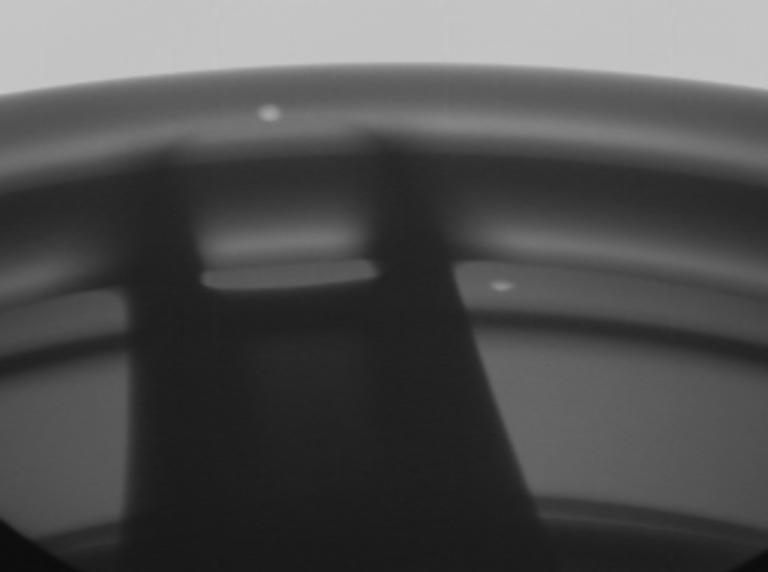defect: (252, 96, 288, 132)
